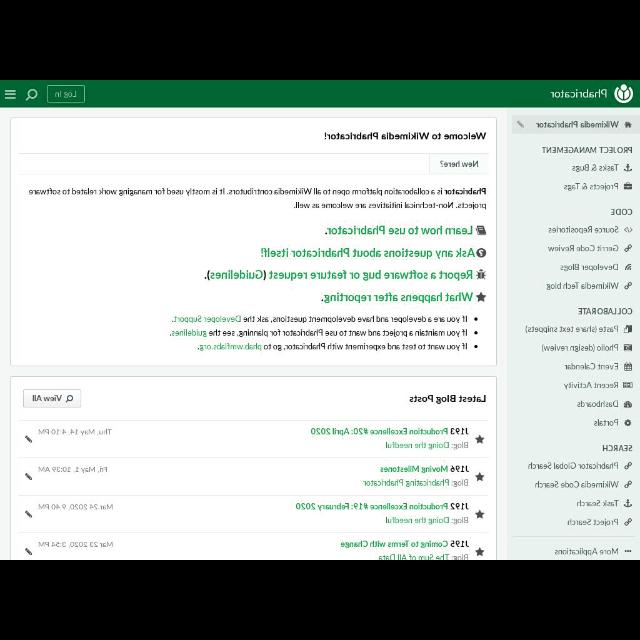icon: (26, 89, 38, 101), (5, 90, 18, 100), (475, 225, 487, 235), (476, 268, 486, 280), (624, 262, 634, 272), (623, 362, 633, 372), (476, 248, 486, 258), (476, 292, 486, 302), (475, 434, 485, 444), (475, 472, 485, 482), (622, 381, 634, 389), (623, 343, 633, 352), (475, 509, 485, 518), (516, 121, 526, 129), (624, 163, 632, 173), (624, 182, 632, 192), (624, 225, 634, 233), (624, 244, 634, 252), (624, 280, 632, 290), (624, 324, 632, 334), (474, 548, 484, 556), (24, 510, 34, 518), (64, 395, 74, 403), (624, 462, 632, 471), (23, 473, 32, 481), (624, 121, 632, 129), (624, 401, 632, 409), (624, 419, 632, 427), (624, 480, 632, 488), (624, 500, 632, 508), (624, 518, 632, 526), (624, 548, 632, 556), (25, 436, 33, 444), (24, 548, 32, 556), (473, 344, 479, 350), (474, 330, 478, 336), (474, 317, 478, 321)
image: (550, 85, 634, 104)
multitab: (525, 324, 619, 428), (526, 461, 620, 527), (544, 225, 620, 291), (562, 163, 620, 193)
text: (28, 188, 486, 210), (295, 502, 469, 524), (310, 428, 470, 450), (203, 270, 472, 282), (168, 328, 468, 338), (171, 314, 469, 324), (196, 342, 468, 352), (340, 539, 470, 559), (362, 464, 470, 488), (260, 247, 474, 259), (321, 292, 473, 304), (323, 224, 472, 236), (324, 131, 486, 141), (525, 325, 619, 335), (533, 480, 619, 490), (527, 462, 619, 471), (536, 120, 618, 130), (409, 394, 487, 404), (541, 146, 633, 154), (540, 343, 620, 352), (547, 244, 619, 253), (554, 547, 618, 557), (36, 503, 114, 511), (36, 541, 114, 549), (37, 428, 113, 436), (545, 282, 619, 290), (562, 182, 620, 192), (547, 226, 619, 234), (38, 466, 108, 474), (563, 382, 619, 391), (560, 264, 618, 272), (562, 363, 620, 371), (577, 308, 633, 316), (575, 498, 619, 508), (566, 518, 620, 526), (576, 399, 618, 409), (571, 164, 619, 172), (441, 159, 479, 169), (601, 444, 633, 454), (593, 418, 619, 428), (30, 394, 61, 402), (54, 90, 78, 98), (609, 208, 633, 216)
textbutton: (511, 116, 639, 132), (22, 390, 82, 408), (46, 86, 85, 102)
toolbar: (1, 80, 640, 106)
